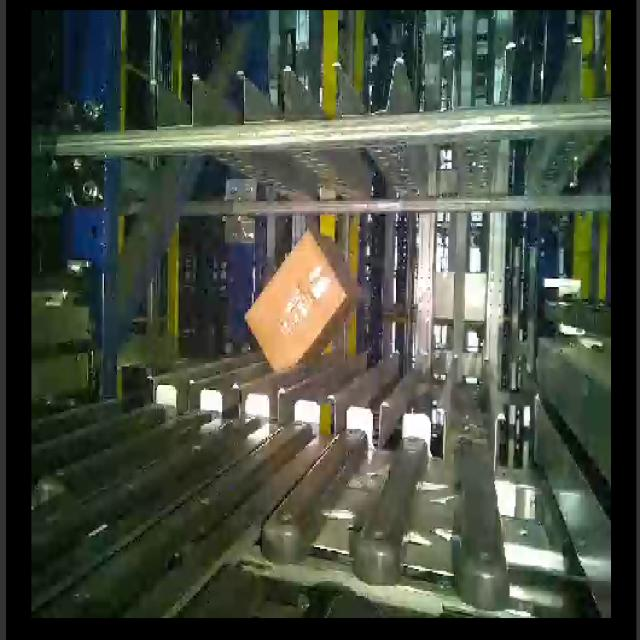box: (226, 229, 366, 385)
